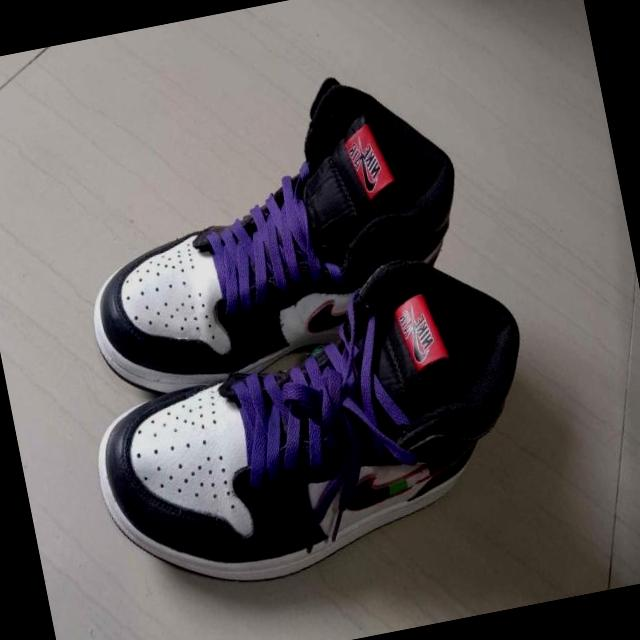nike_fake_jordan: (66, 236, 562, 614), (55, 56, 504, 418)
